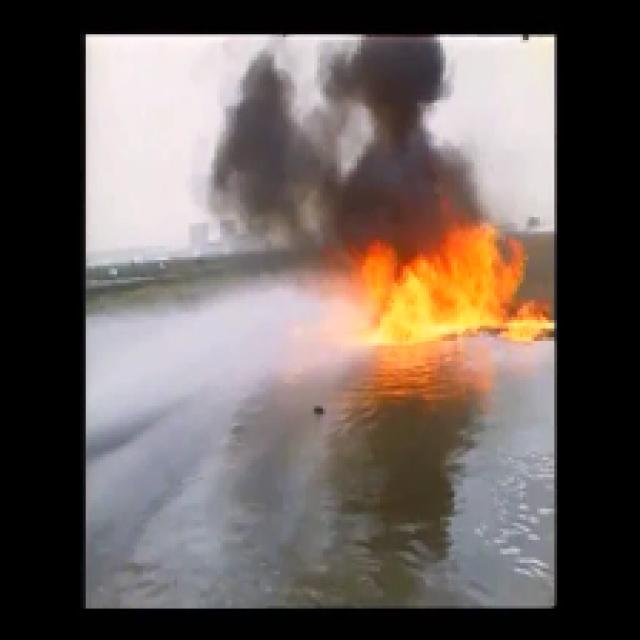fire: (356, 247, 543, 340)
smoke: (207, 38, 475, 214)
